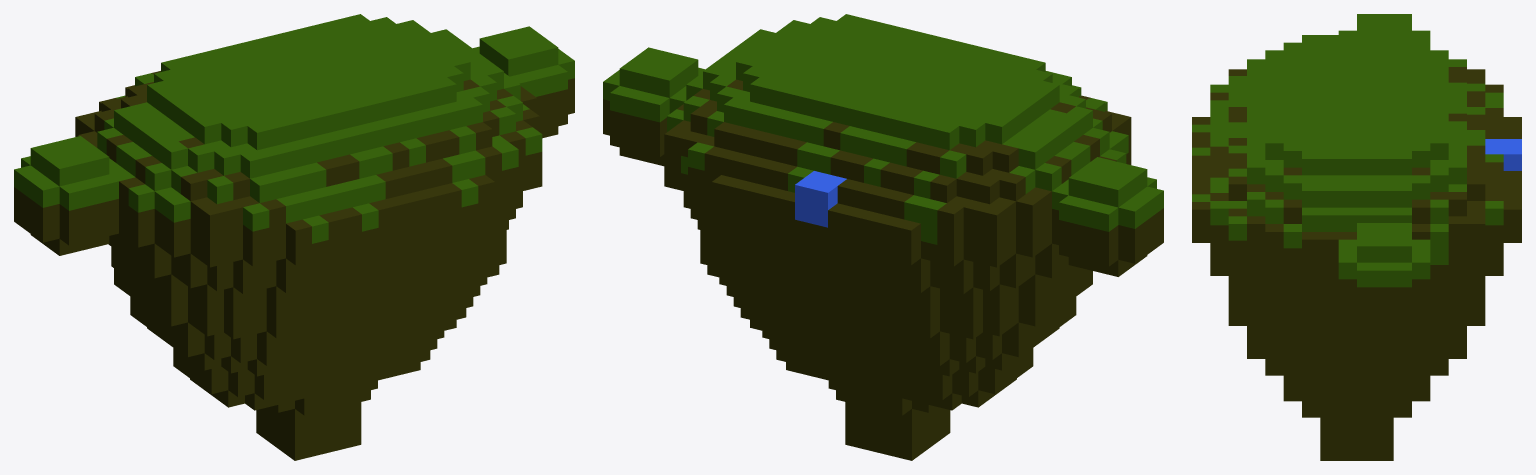
Rendered from Roboter-0.obj.
3 renders of one model, left to right at view 1: azimuth 30°, elevation 25°; view 2: azimuth 150°, elevation 25°; view 3: azimuth 270°, elevation 25°, orthographic. The views are drawn at different scales.
Visible parts, largest first — view 1: Roboter-0; view 2: Roboter-0; view 3: Roboter-0.
Part boxes in pixels (x1,y1,x2,y2): Roboter-0: [14, 14, 574, 460]; Roboter-0: [603, 14, 1163, 460]; Roboter-0: [1192, 14, 1521, 460].
Size of the model in its own units: 32 by 21 by 18.
